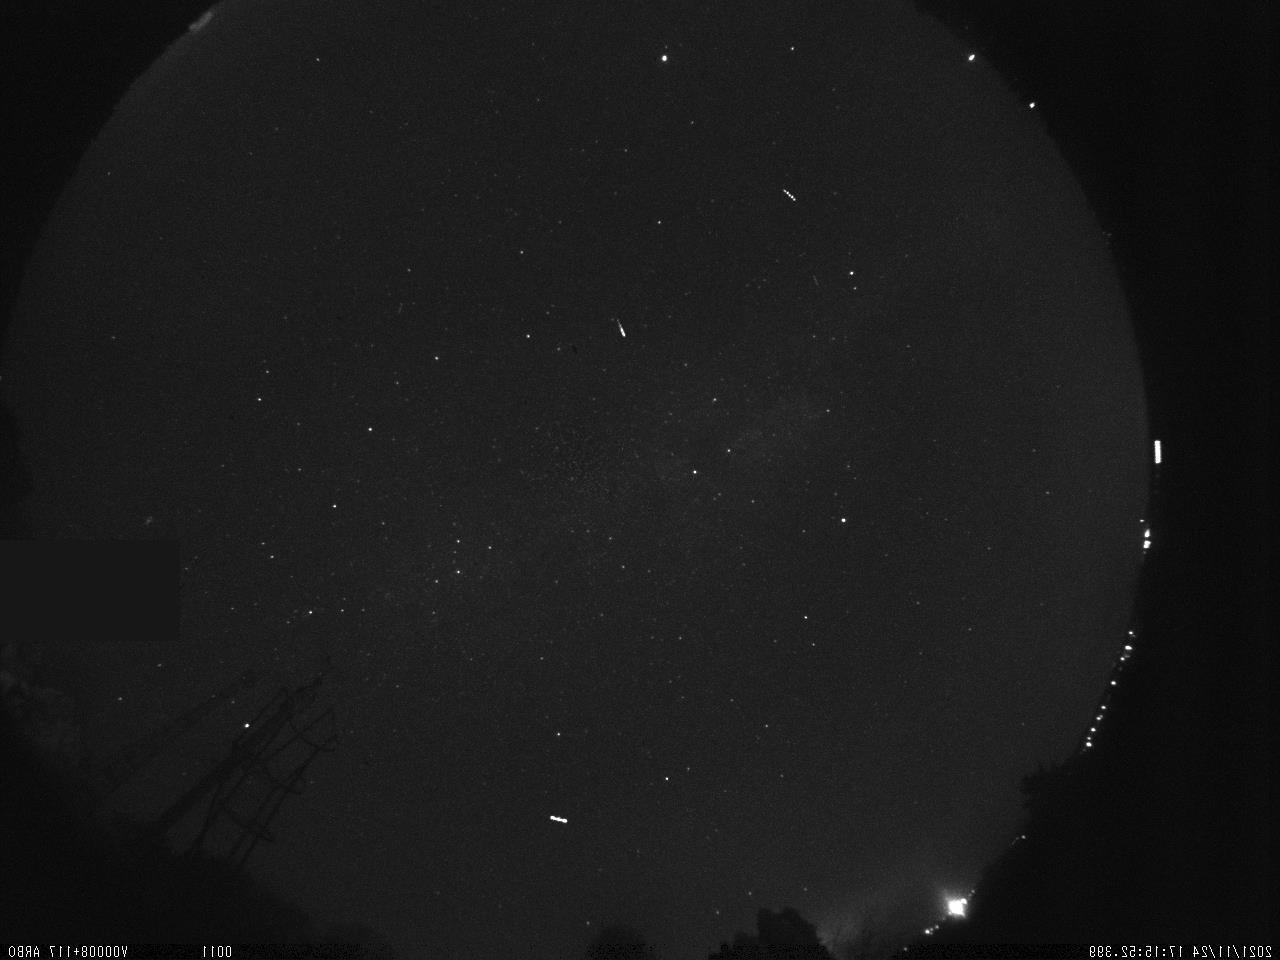meteor: (611, 311, 631, 346)
satelite: (776, 179, 800, 209), (545, 810, 574, 830)
